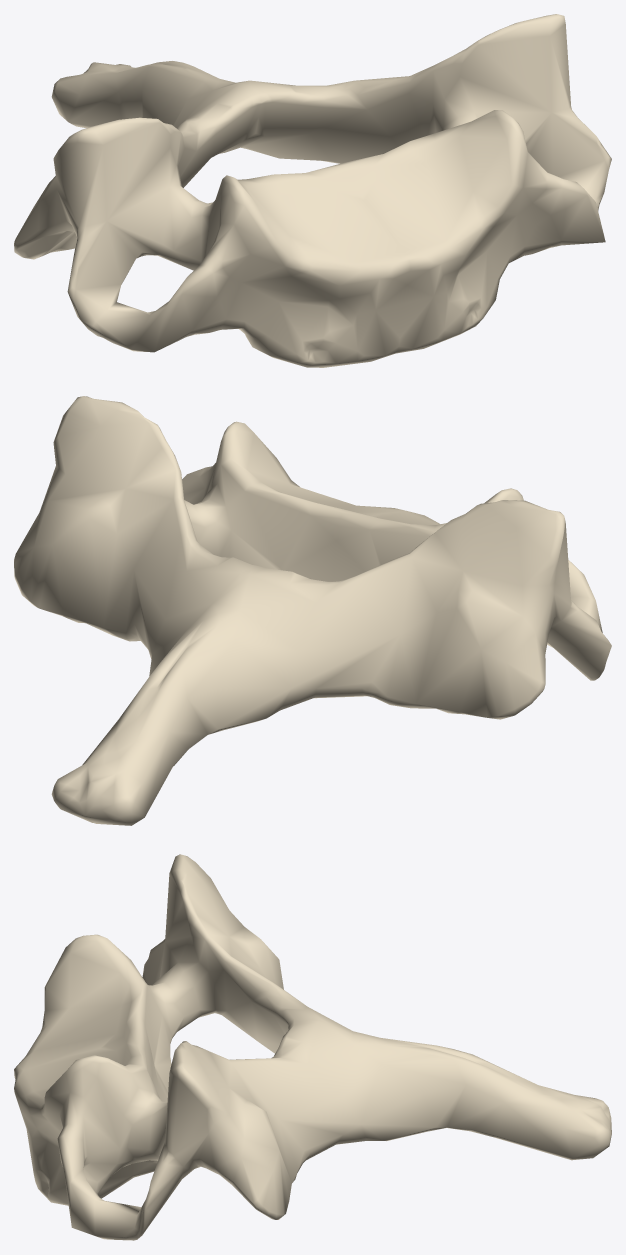
The model's file is vertebra-c6.glb.
The picture shows the model from 3 angles, top to bottom: view 1: azimuth 30°, elevation 25°; view 2: azimuth 150°, elevation 25°; view 3: azimuth 270°, elevation 25°; orthographic projection. The views are drawn at different scales.
Visible parts, largest first — view 1: Vertebra C6; view 2: Vertebra C6; view 3: Vertebra C6.
Part boxes in pixels (x1,y1,x2,y2): Vertebra C6: (14,14,611,367); Vertebra C6: (14,396,611,825); Vertebra C6: (14,854,611,1240).
Bounding box in the file's own units: 0.0613 × 0.0246 × 0.0636.
